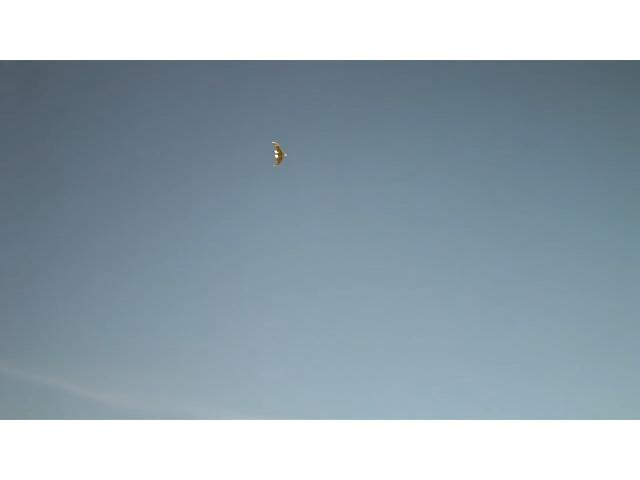Anti-Drone: (272, 143, 286, 165)
